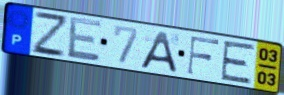7: (112, 23, 140, 66)
A: (138, 30, 179, 74)
E: (66, 15, 104, 63), (218, 40, 257, 85)
F: (186, 35, 221, 76)
Z: (31, 9, 68, 59)
